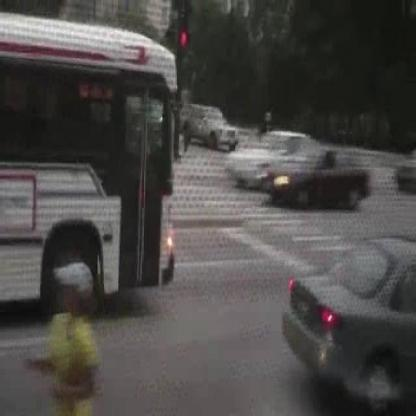other: (261, 166, 296, 204), (160, 227, 182, 278)
